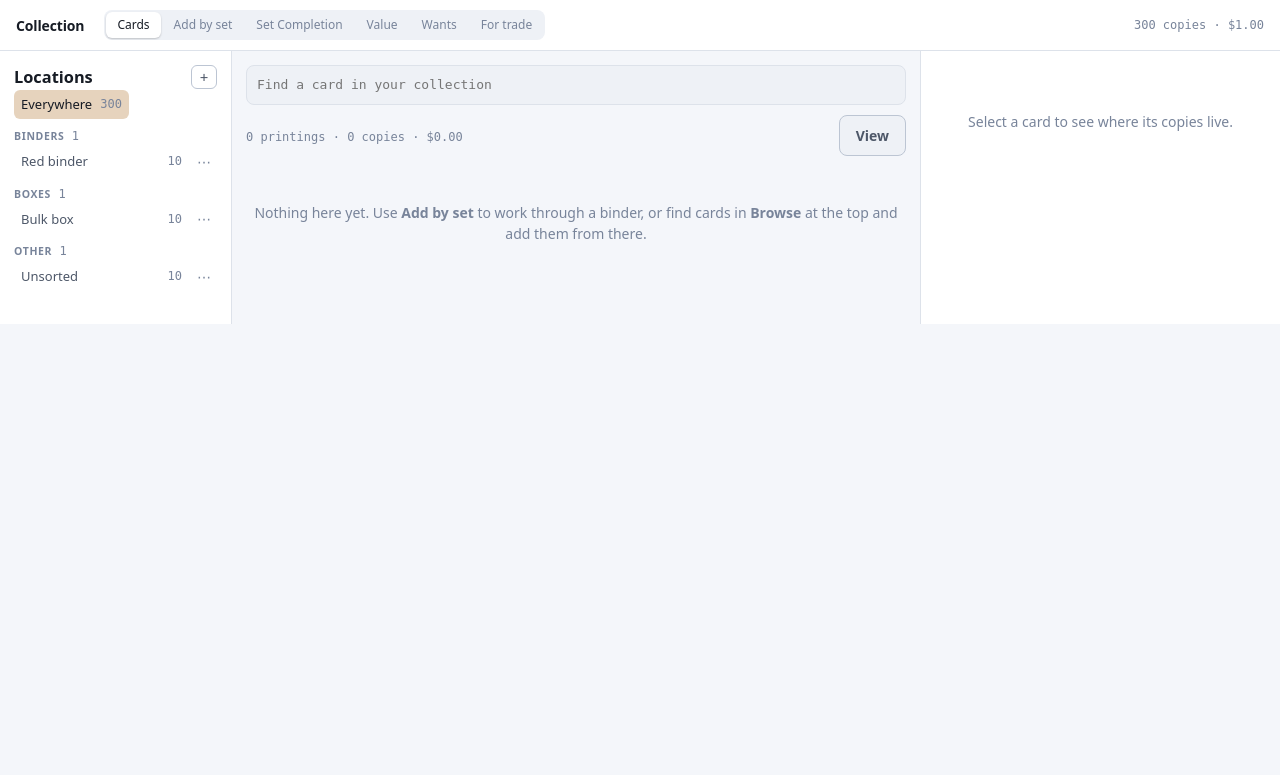
Test: CollectionPage › renames a location through the location client, and the sidebar shows the new name
The image size is (1280, 775).
Click the button named "Edit Red binder".
click(204, 162)  # box x1=191 y1=155 x2=217 y2=169
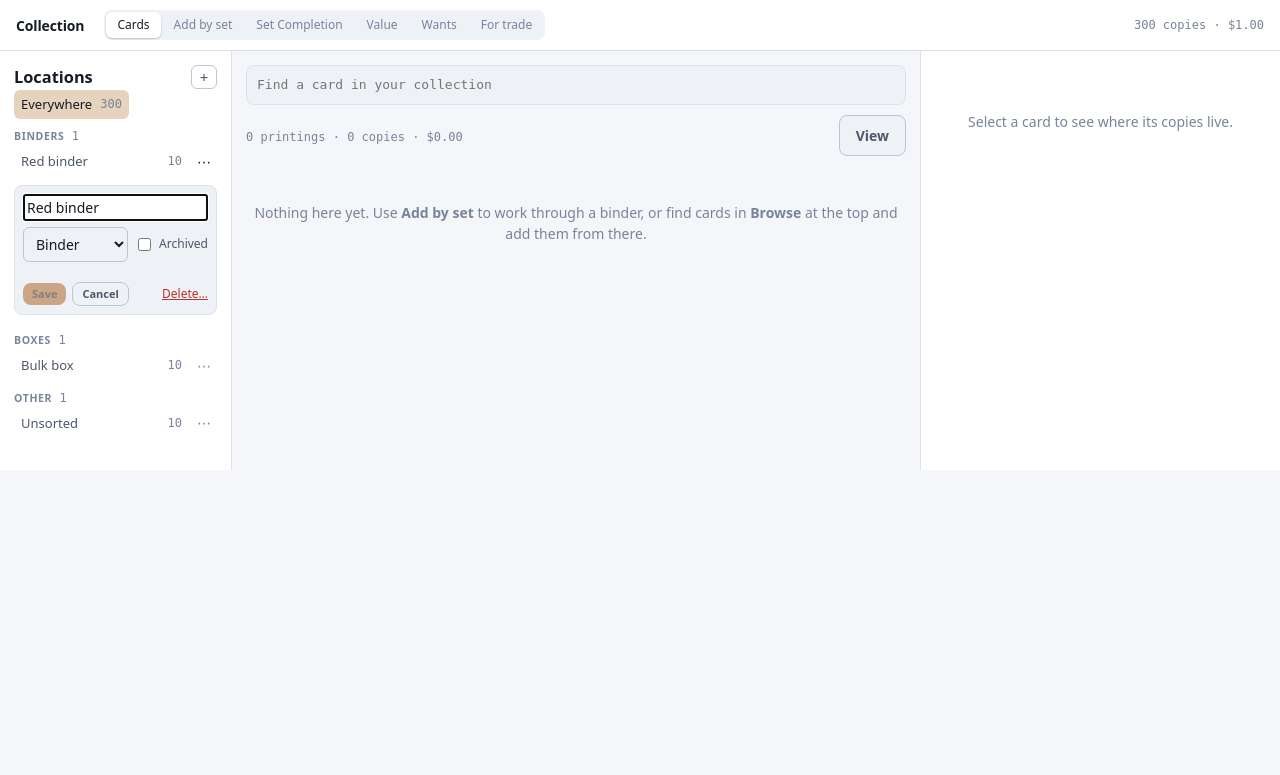
Replace the text in the field named "Location name" with "Blue binder" at (116, 207), box x1=23 y1=194 x2=208 y2=221
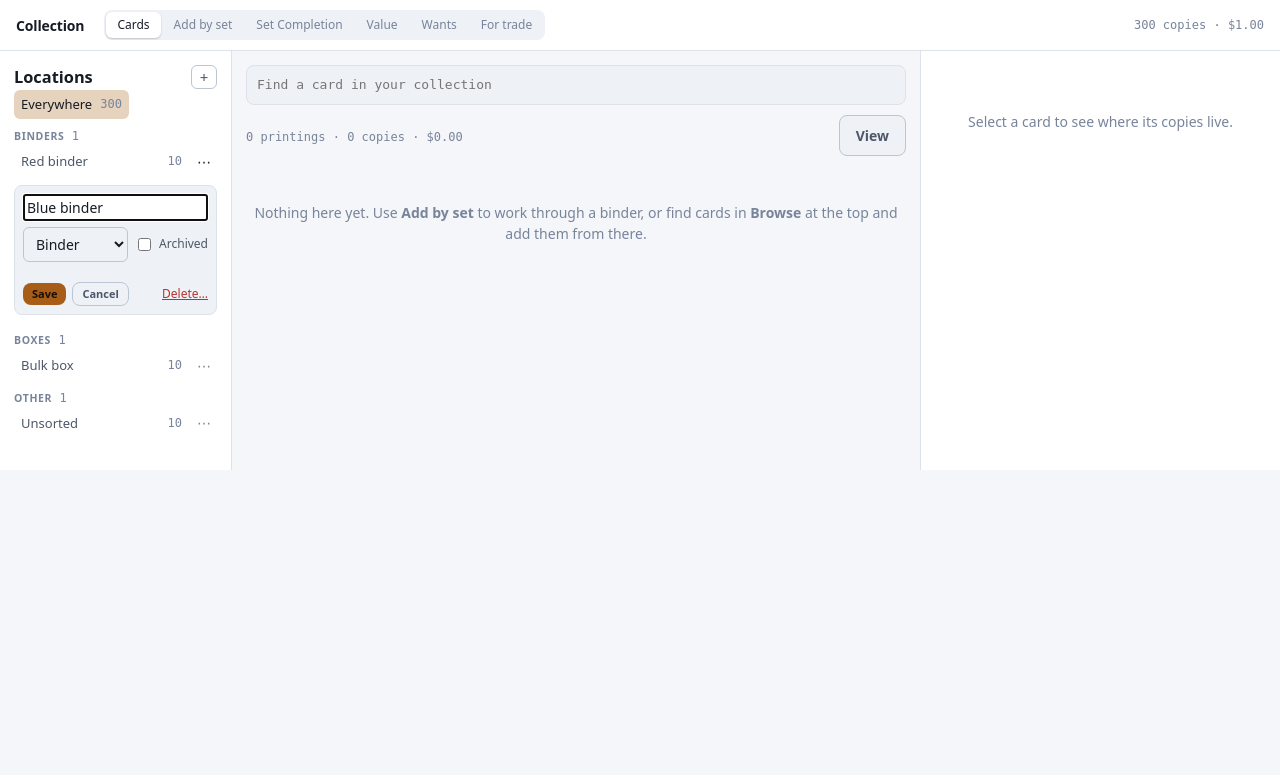
Click the button "Save".
click(45, 294)  # box x1=23 y1=283 x2=66 y2=305
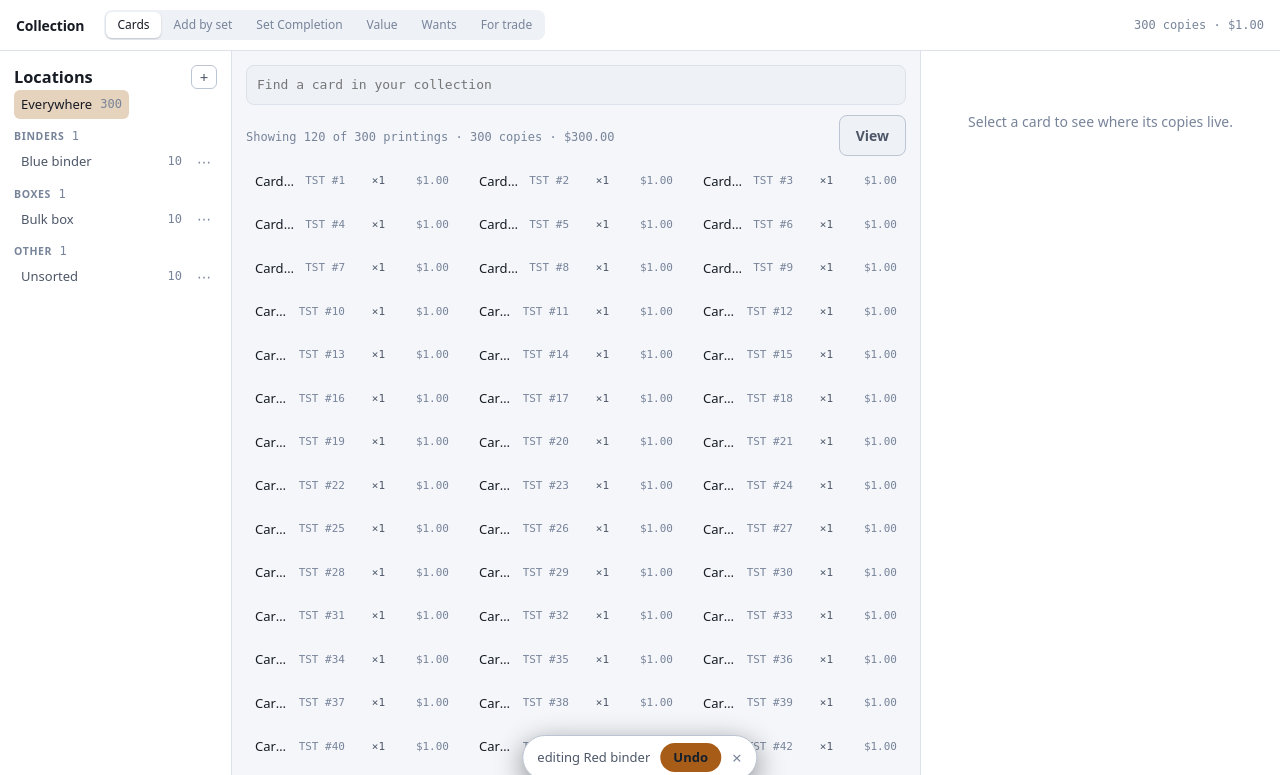
Expected: the button "Blue binder 10" is shown, x1=14 y1=147 x2=189 y2=177
Expected: the button "Red binder" is gone
